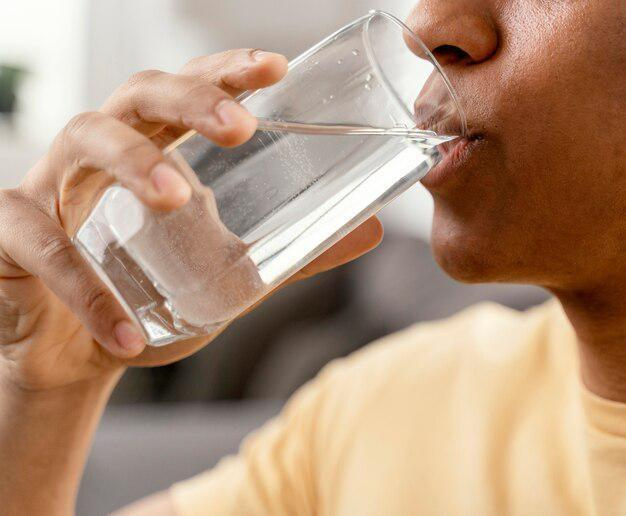glass-normal: (76, 6, 469, 348)
